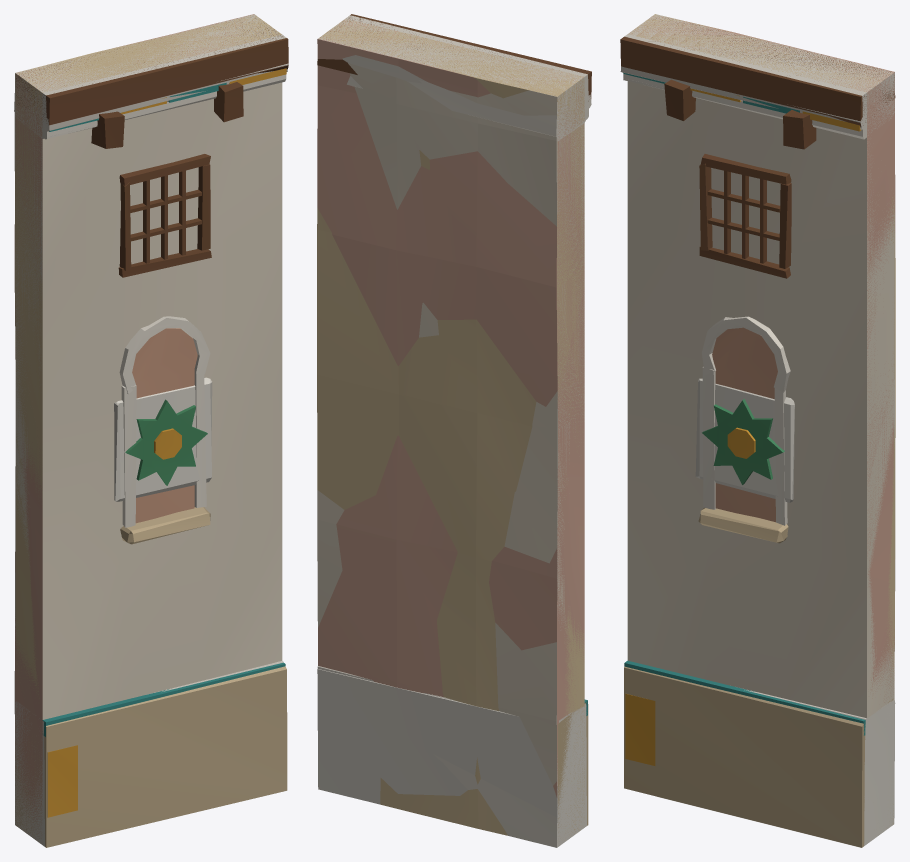
File: wall.plain.glb
3 views of the same model, side by side, from view 1: azimuth 30°, elevation 25°; view 2: azimuth 150°, elevation 25°; view 3: azimuth 330°, elevation 25° (orthographic).
Parts seen in each view (by area): view 1: wall.plain.v2.mesh, wall.plain.v0.mesh, wall.plain.v1.mesh; view 2: wall.plain.v1.mesh, wall.plain.v0.mesh, wall.plain.v2.mesh; view 3: wall.plain.v2.mesh, wall.plain.v1.mesh, wall.plain.v0.mesh.
Boxes of the visible parts, bbox=[...] form: wall.plain.v2.mesh: bbox=[14, 16, 288, 847]; wall.plain.v0.mesh: bbox=[14, 14, 288, 846]; wall.plain.v1.mesh: bbox=[14, 14, 286, 844]; wall.plain.v1.mesh: bbox=[317, 15, 588, 847]; wall.plain.v0.mesh: bbox=[317, 15, 591, 847]; wall.plain.v2.mesh: bbox=[317, 14, 591, 840]; wall.plain.v2.mesh: bbox=[620, 14, 895, 847]; wall.plain.v1.mesh: bbox=[623, 15, 895, 845]; wall.plain.v0.mesh: bbox=[620, 14, 895, 845].
Size of the model in its own units: 0.9999 by 3 by 0.3032.
